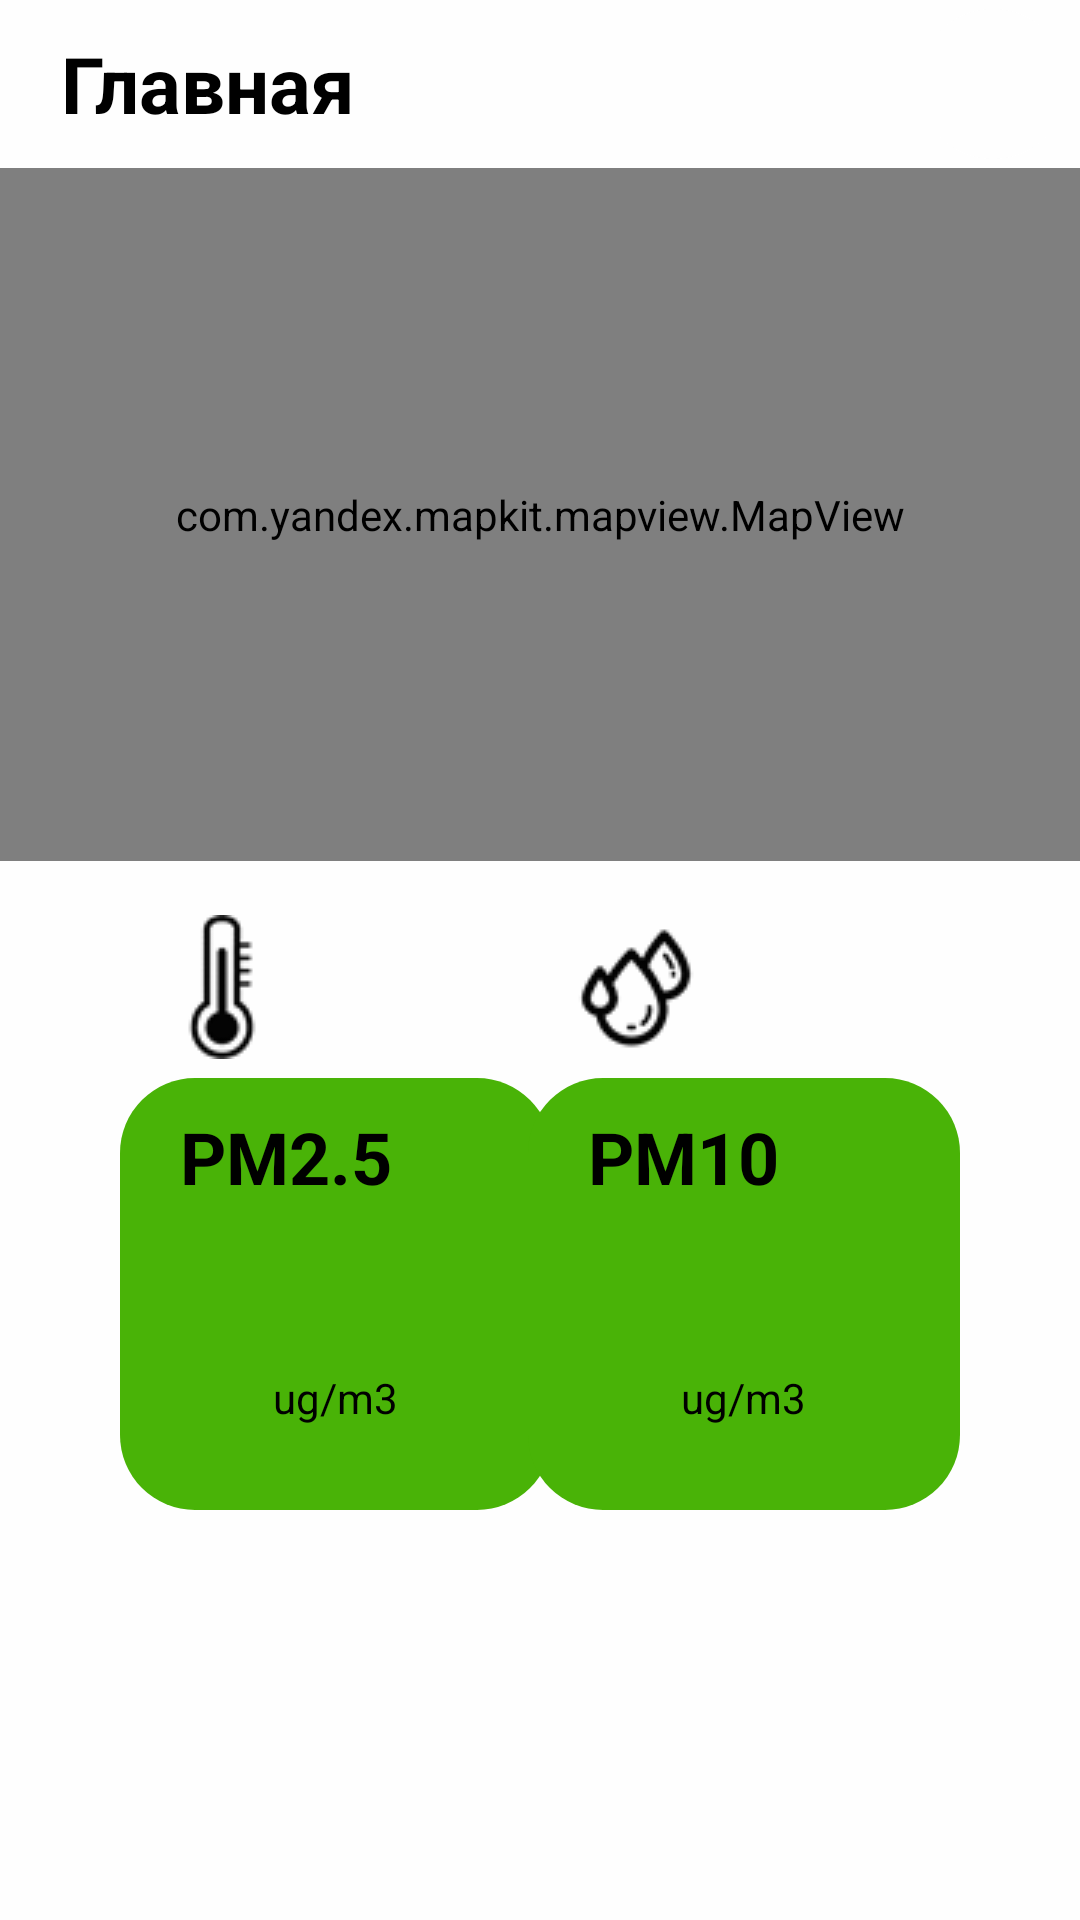

Where to tap for icons on this 1080w x 1920h app screen, as point (x, y):
humidity: point (636, 988)
temperature: point (222, 987)
